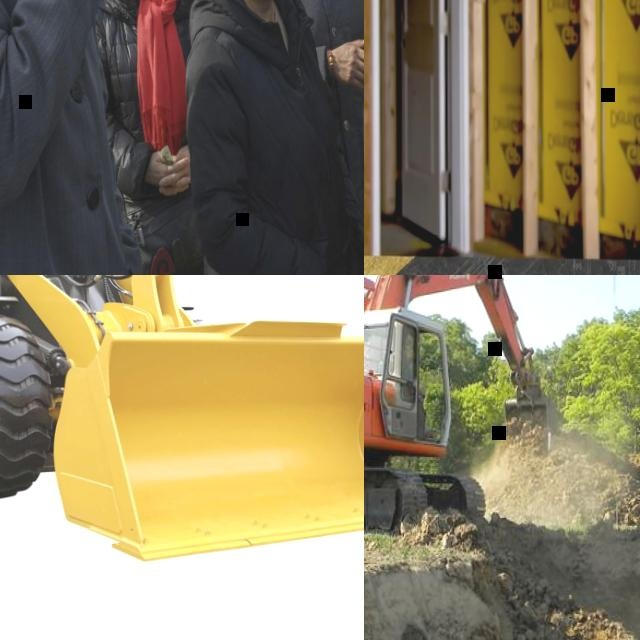NO-Safety Vest: (199, 12, 339, 275), (0, 0, 127, 275), (106, 0, 208, 235), (291, 0, 362, 174)
Person: (262, 0, 364, 216), (398, 354, 433, 441)
machinery: (0, 275, 364, 569), (364, 275, 555, 532)
